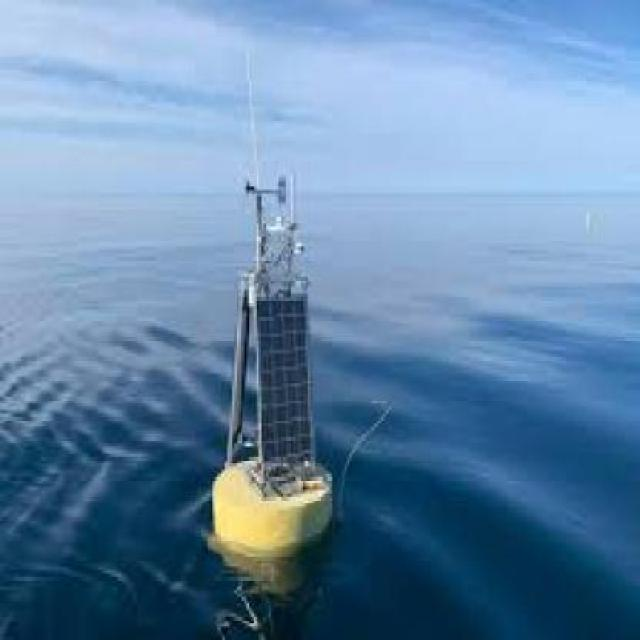buoy: (182, 34, 345, 585)
